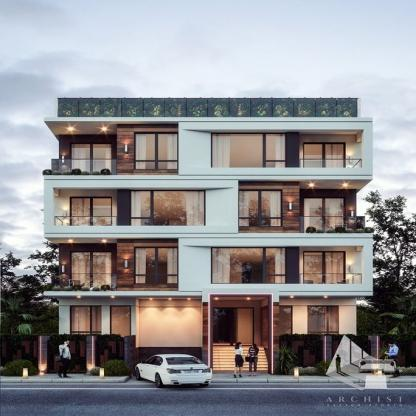Balcony: (58, 97, 358, 117), (299, 273, 361, 291), (300, 216, 365, 233), (54, 274, 116, 291), (51, 159, 116, 175), (56, 216, 117, 233), (300, 159, 362, 175)
Building Outline: (44, 97, 373, 376)
Door: (70, 251, 112, 291), (213, 308, 254, 346), (69, 197, 112, 233), (303, 251, 345, 287), (303, 197, 345, 233), (303, 143, 346, 178), (69, 143, 112, 178)
Facade: (44, 97, 373, 375)
Floor Slab: (44, 175, 373, 180), (44, 233, 373, 238), (44, 291, 372, 296), (44, 118, 373, 122)
Window: (184, 245, 364, 284), (184, 129, 364, 168), (54, 188, 234, 226), (210, 295, 272, 375), (211, 247, 287, 283), (130, 190, 205, 225), (212, 133, 285, 167), (237, 190, 282, 227), (133, 248, 178, 285), (134, 133, 177, 169), (70, 306, 103, 343), (308, 306, 339, 343), (110, 306, 130, 343), (272, 306, 292, 343)
